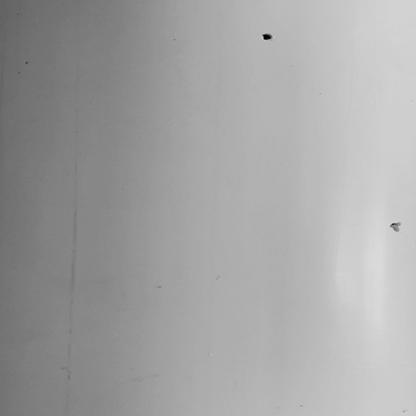kongdong: (373, 194, 403, 242), (261, 25, 286, 46)
